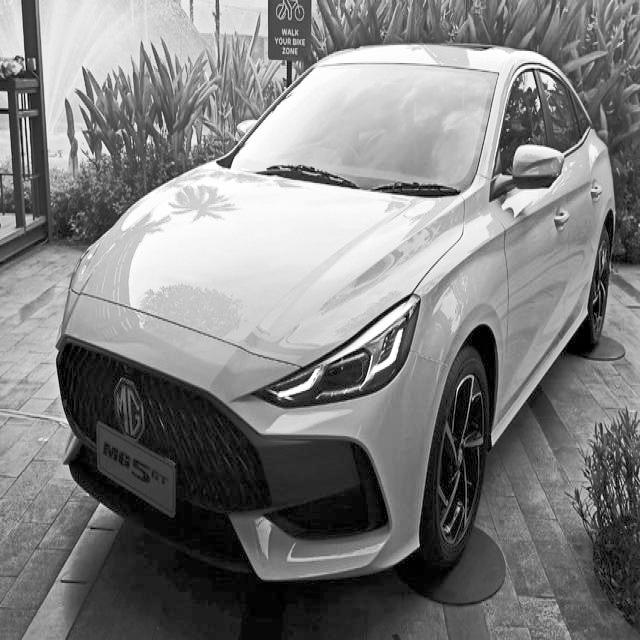Car: (43, 24, 629, 634)
